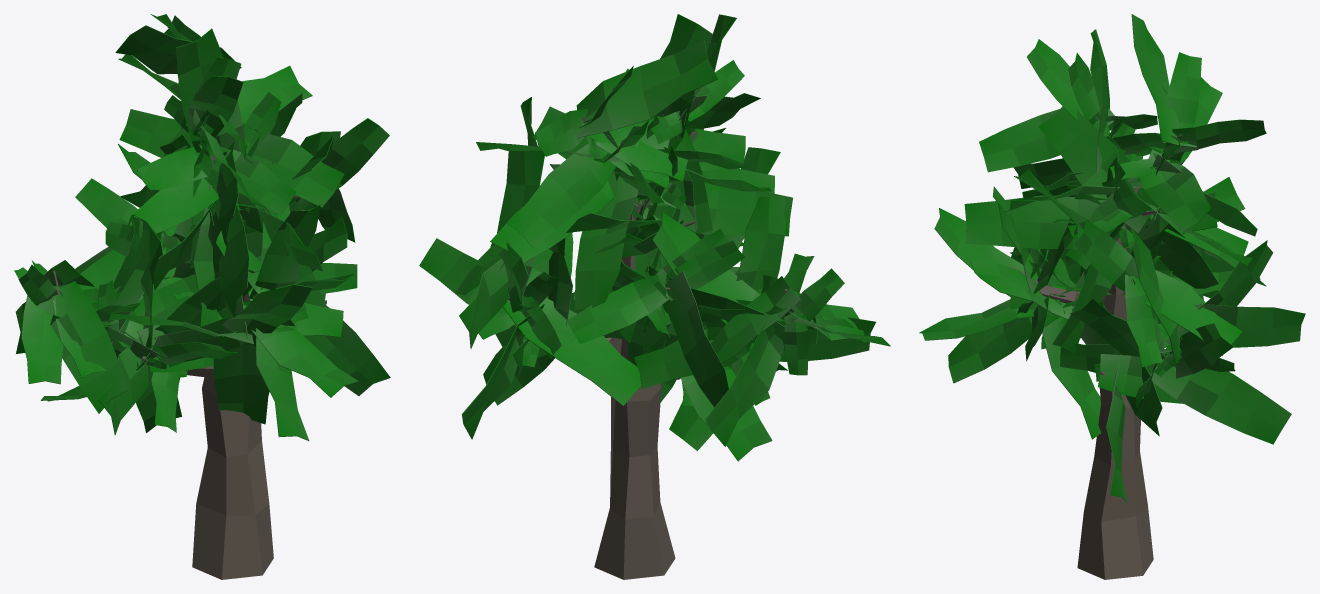
Rendered from Arvores5LOD.fbx.
The picture shows the model from 3 angles, left to right: view 1: azimuth 30°, elevation 25°; view 2: azimuth 150°, elevation 25°; view 3: azimuth 270°, elevation 25°; orthographic projection. The views are drawn at different scales.
Parts seen in each view (by area): view 1: Arvore5_LOD0; view 2: Arvore5_LOD0; view 3: Arvore5_LOD0.
Boxes of the visible parts, x1,y1,x2,y2 form: Arvore5_LOD0: (14, 14, 390, 579); Arvore5_LOD0: (419, 14, 890, 579); Arvore5_LOD0: (919, 14, 1305, 579).
Size of what is drawn, in the model's own units: 622 by 848 by 578.
